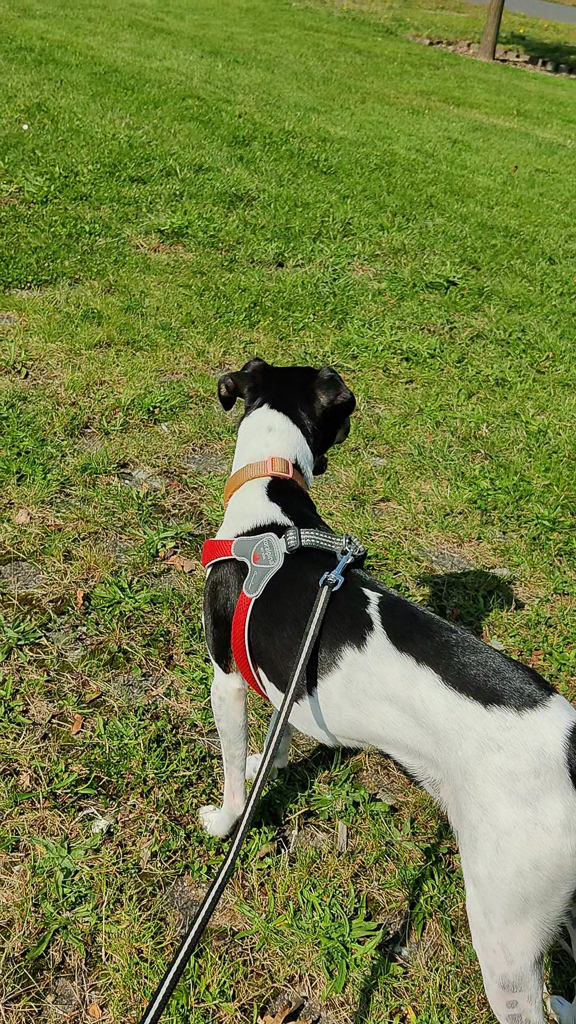Dog: (174, 347, 576, 1024)
